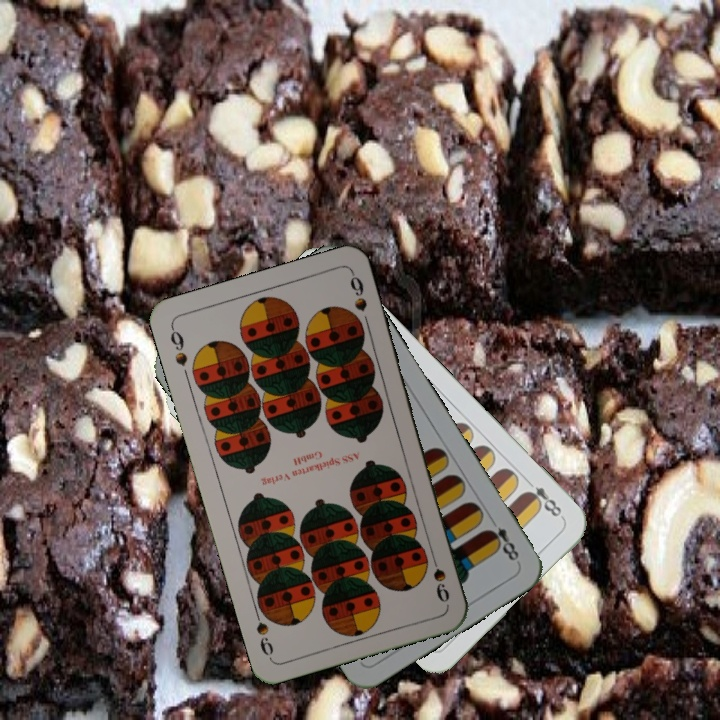E8: (520, 475, 567, 522), (482, 513, 522, 564)
S9: (426, 548, 452, 606), (166, 322, 190, 369)
